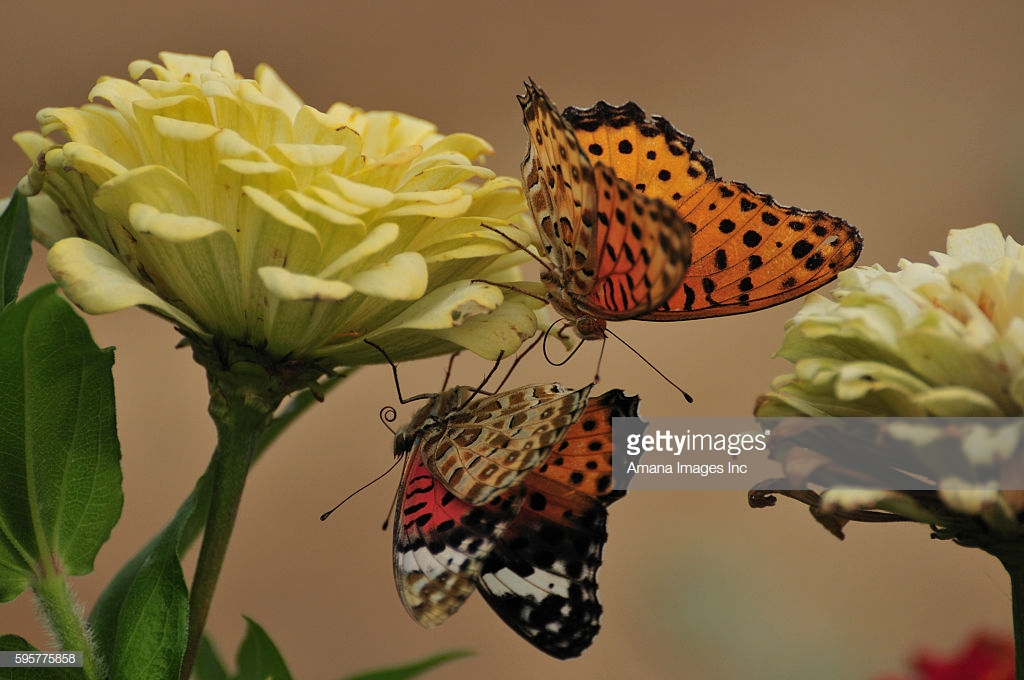Argyreus hyperbius: (466, 73, 868, 402), (324, 326, 655, 657)
butterfly: (468, 75, 870, 404), (322, 324, 653, 655)
